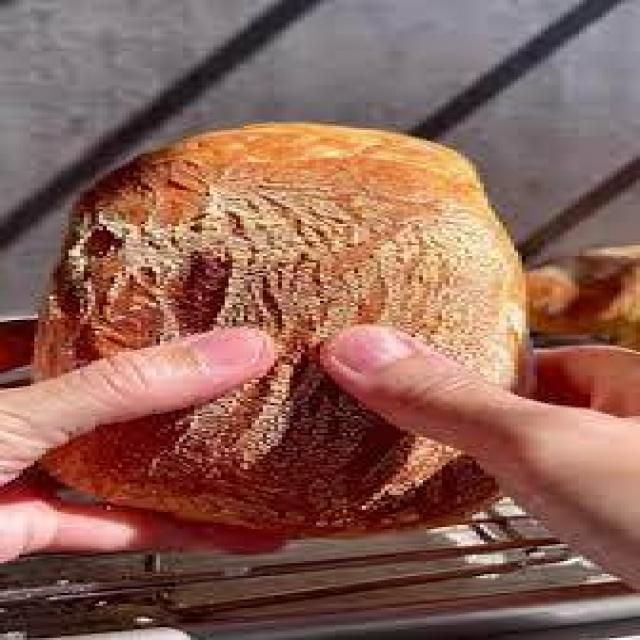Ciabatta: (38, 124, 518, 538)
